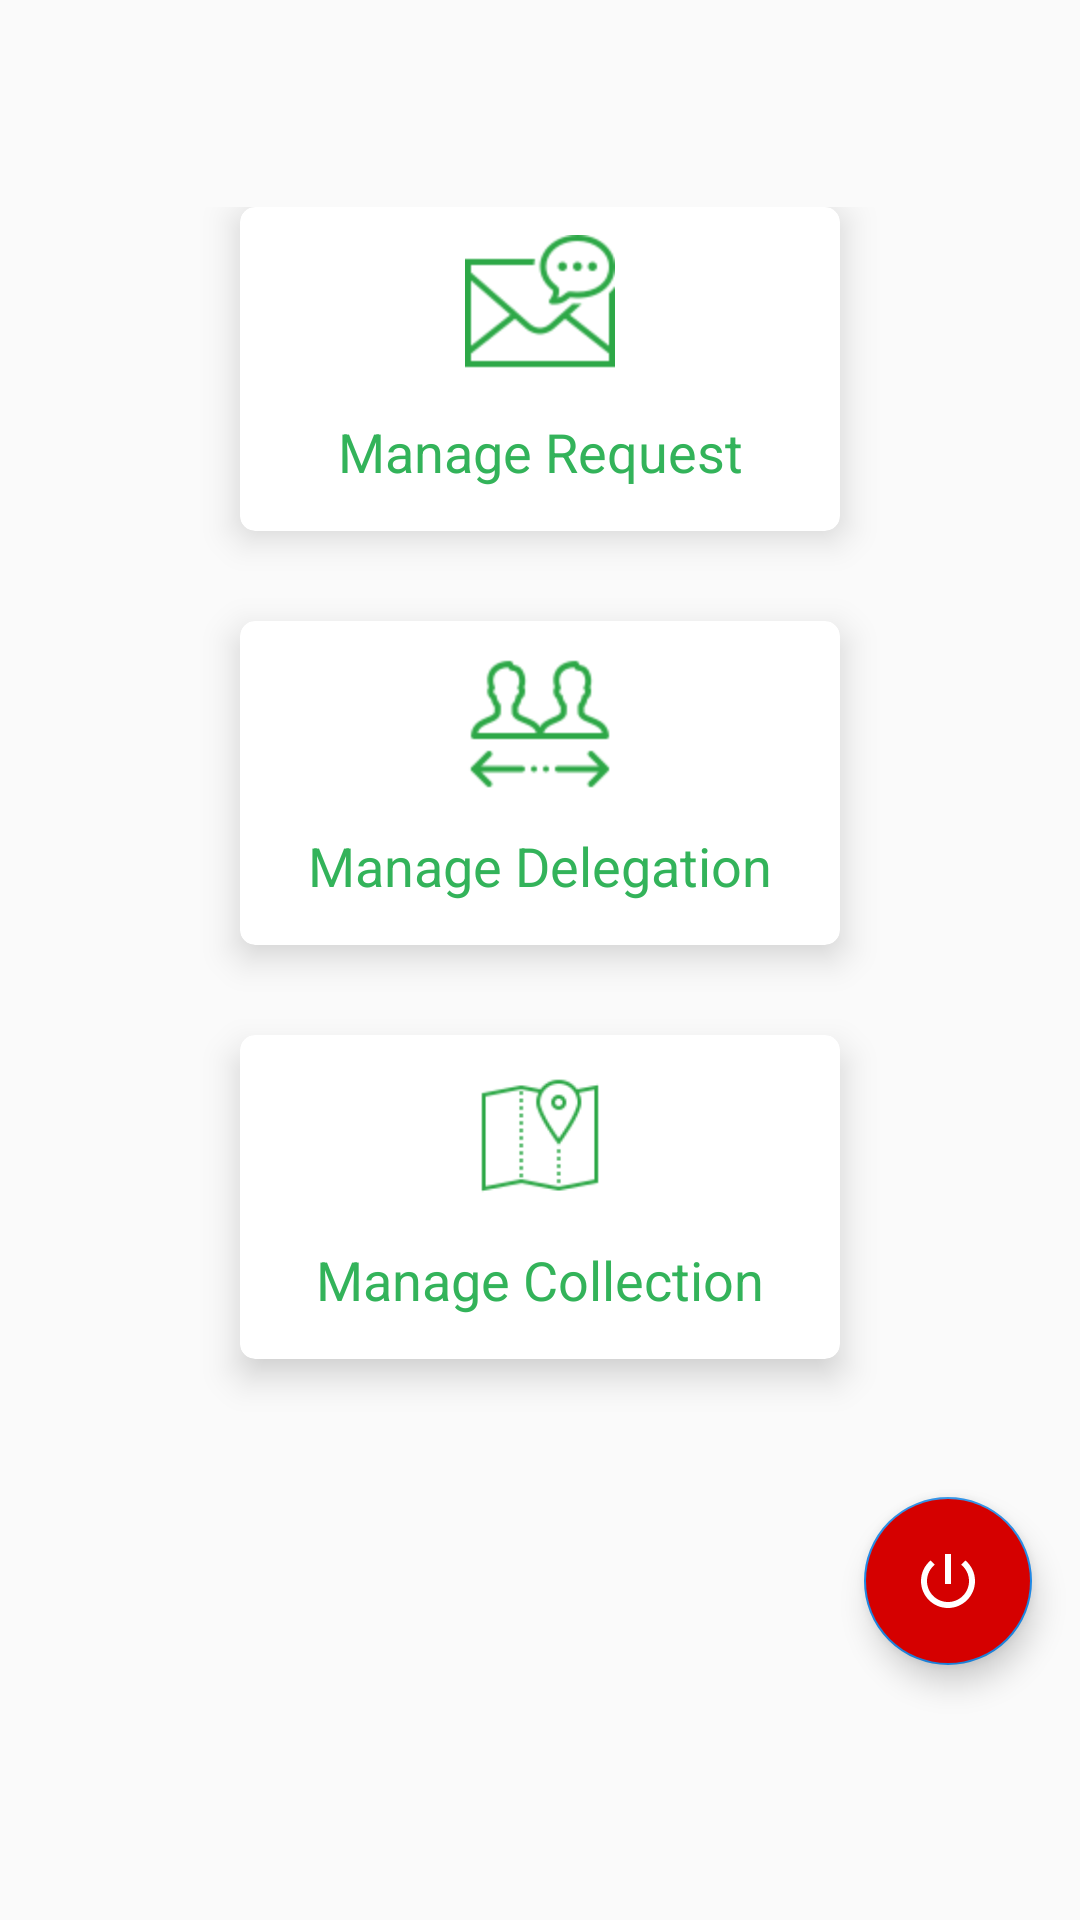

Screen size 1080*1920. Icon name, then its box in pixels as bbox=[x1, y1, x2, y2]:
power settings: bbox=[864, 1497, 1032, 1665]
